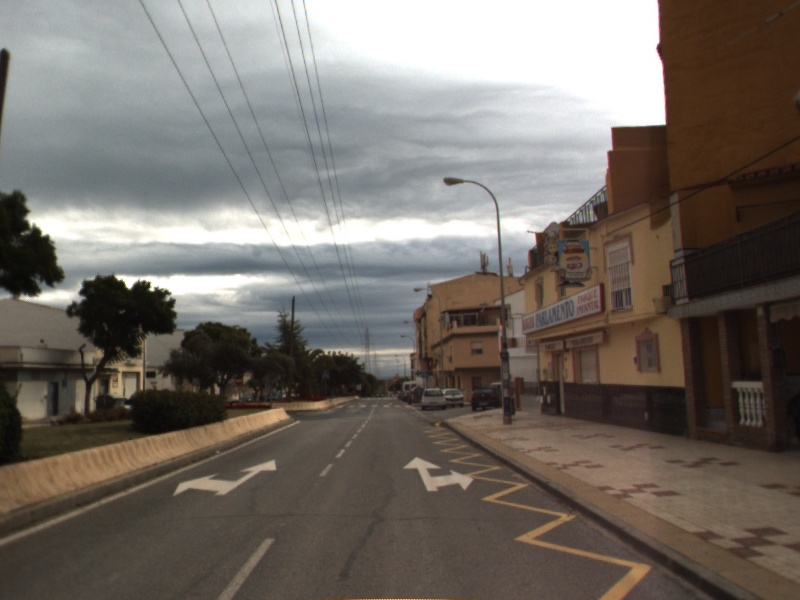STRAIGHT_LEFT: (171, 457, 279, 498)
STRAIGHT_RIGHT: (401, 454, 475, 493)
